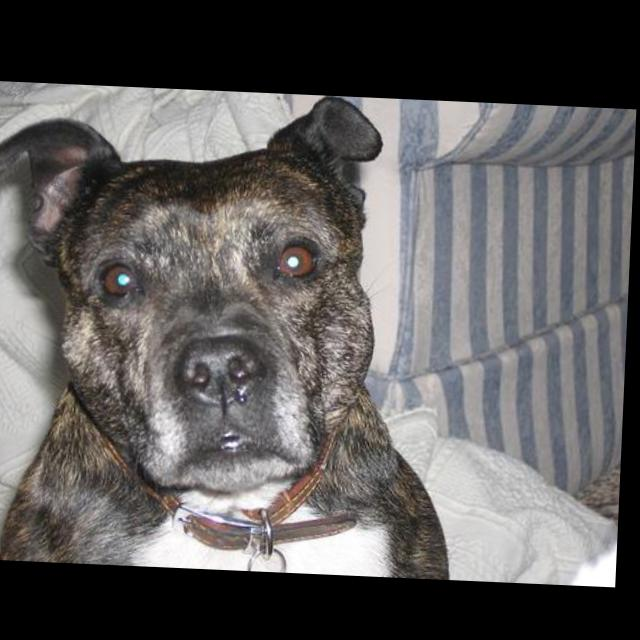staffford: (1, 82, 484, 577)
